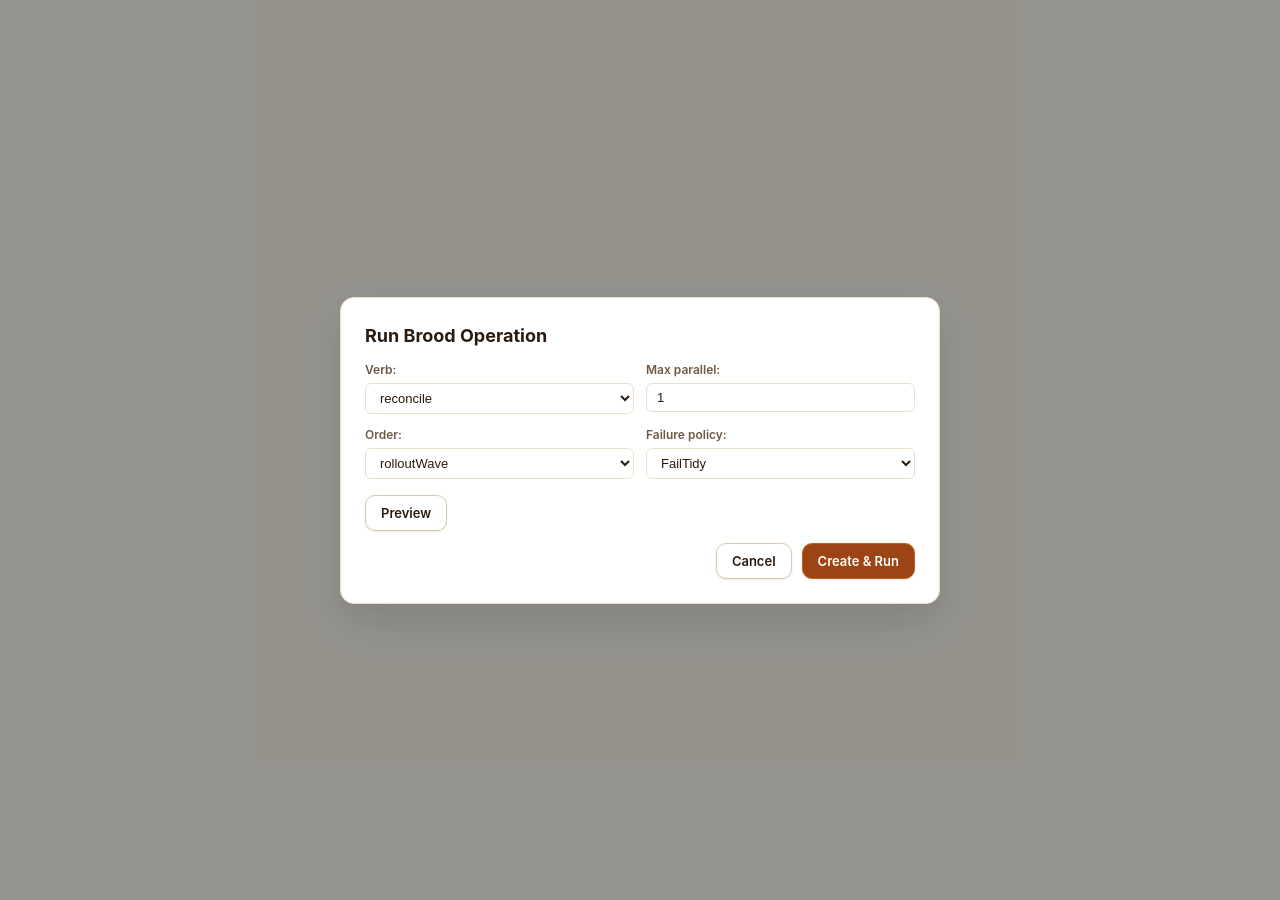
Test: BroodOperationModal › clears a stale preview table when a later preview attempt fails
Click the button "Preview" at (406, 512), box x1=365 y1=494 x2=447 y2=530
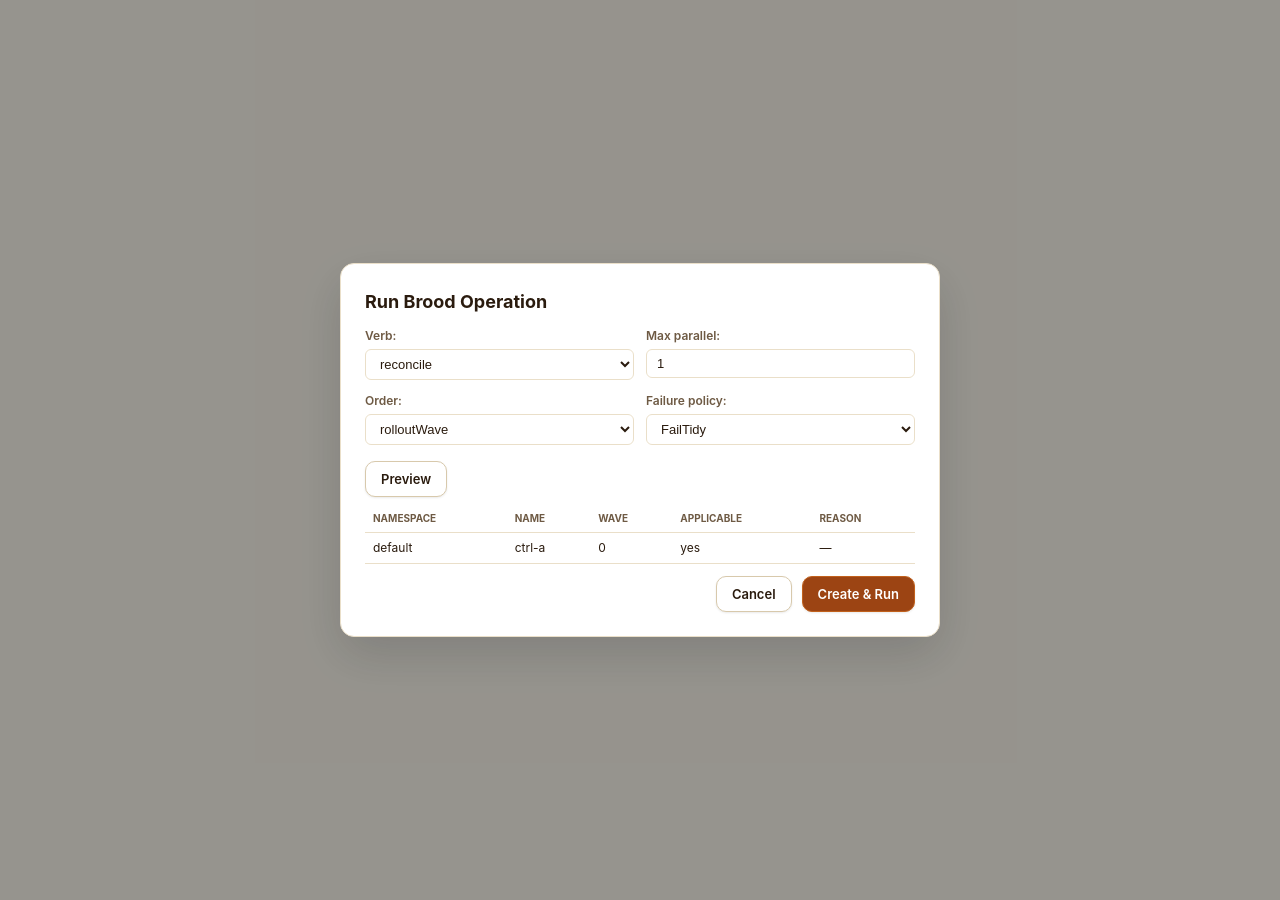
Check: the text "ctrl-a" is shown, box x1=507 y1=532 x2=590 y2=564
Click the button "Preview" at (406, 479), box x1=365 y1=461 x2=447 y2=497
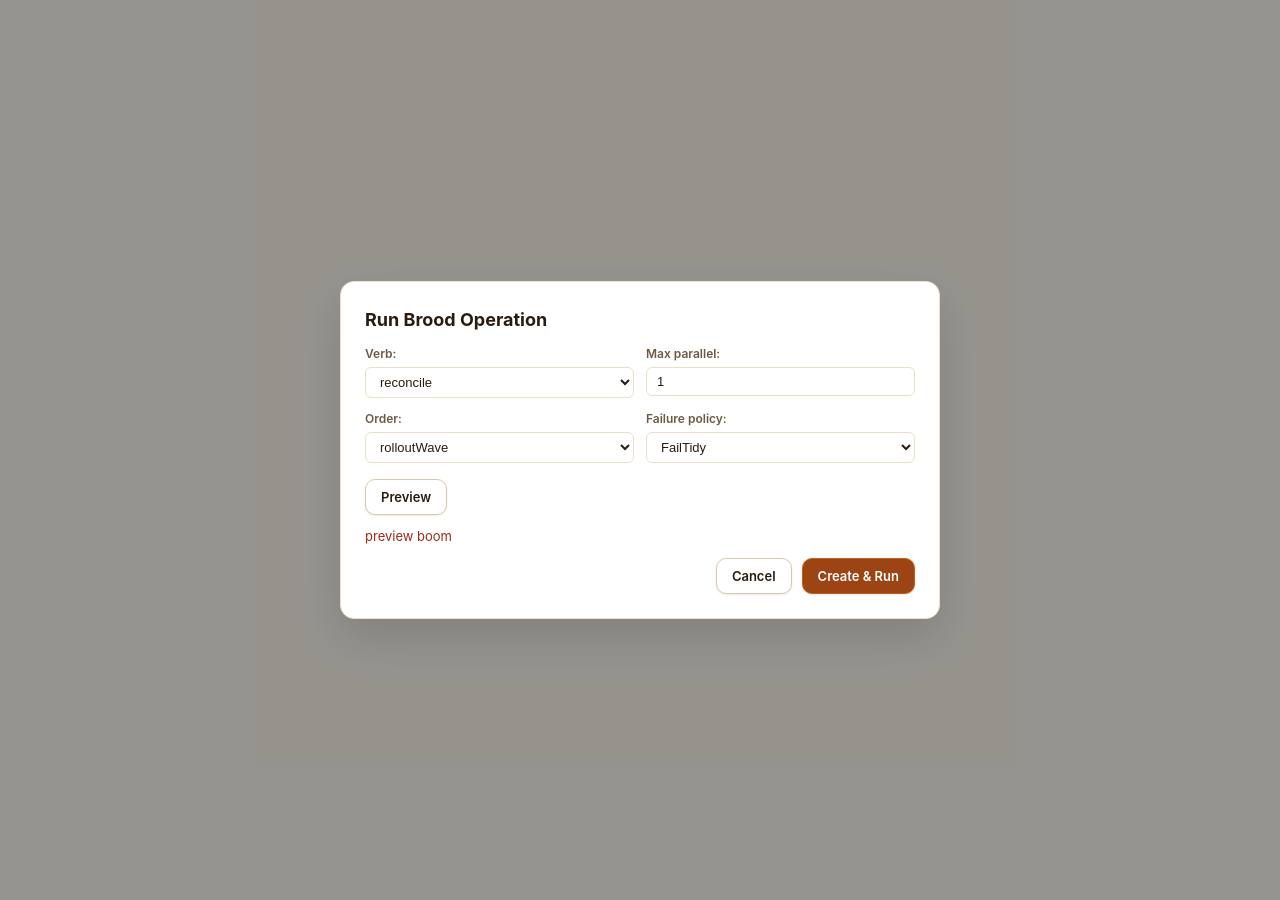
Check: the text "preview boom" is shown, box x1=365 y1=528 x2=452 y2=544
Check: the text "ctrl-a" is gone
